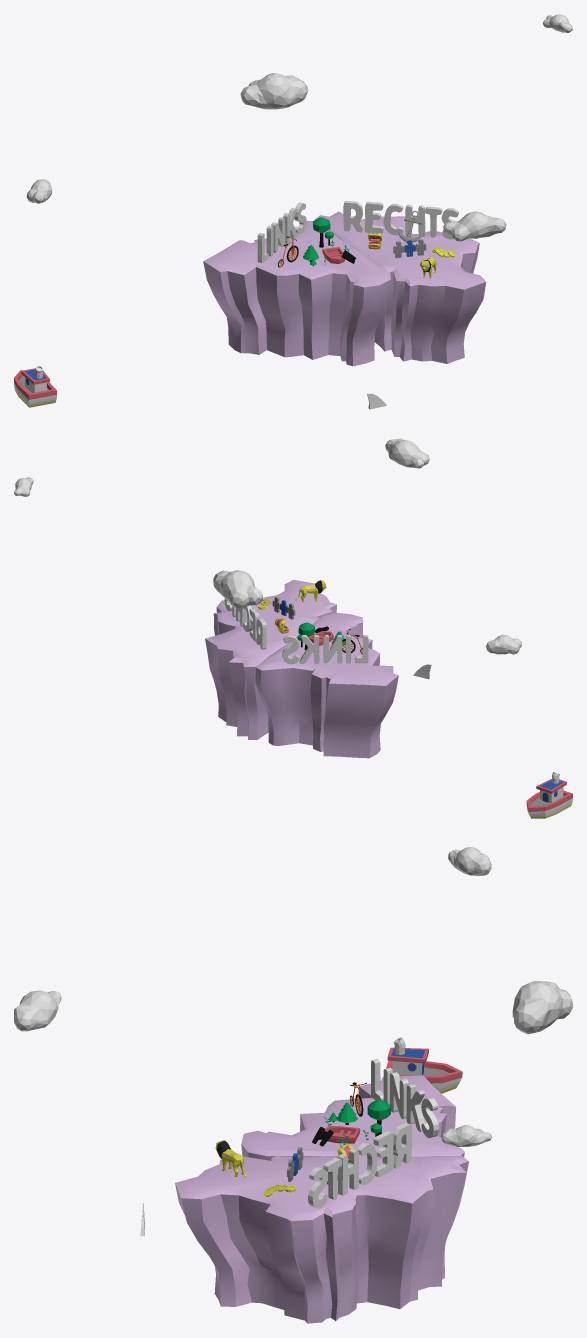
The model's file is 010-left_right.glb.
3 views of the same model, one above another, from view 1: azimuth 30°, elevation 25°; view 2: azimuth 150°, elevation 25°; view 3: azimuth 270°, elevation 25° (orthographic). The views are drawn at different scales.
Visible parts, largest first — view 1: GEO.Belgium.L, GEO.Belgium.R, GEO.Cloud, GEO.Ship, GEO.Cloud.001; view 2: GEO.Belgium.L, GEO.Belgium.R, GEO.Ship, GEO.Cloud, GEO.Cloud.001, GEO.Cloud.002; view 3: GEO.Belgium.R, GEO.Belgium.L, GEO.Cloud, GEO.Ship, GEO.Cloud.001, GEO.Cloud.002, GEO.Cloud.003.
Part boxes in pixels (x1,y1,x2,y2): GEO.Belgium.L: [203, 202, 390, 366]; GEO.Belgium.R: [314, 201, 486, 363]; GEO.Cloud: [240, 73, 308, 109]; GEO.Ship: [14, 365, 56, 407]; GEO.Cloud.001: [443, 211, 506, 241]; GEO.Belgium.L: [255, 612, 398, 758]; GEO.Belgium.R: [205, 579, 336, 739]; GEO.Ship: [526, 772, 572, 818]; GEO.Cloud: [213, 570, 262, 608]; GEO.Cloud.001: [385, 438, 429, 468]; GEO.Cloud.002: [486, 634, 521, 654]; GEO.Belgium.R: [175, 1123, 468, 1323]; GEO.Belgium.L: [241, 1059, 464, 1160]; GEO.Cloud: [512, 981, 572, 1034]; GEO.Ship: [386, 1037, 462, 1093]; GEO.Cloud.001: [14, 990, 61, 1031]; GEO.Cloud.002: [448, 847, 491, 875]; GEO.Cloud.003: [441, 1125, 491, 1146].
Size of what is drawn, in the model's own units: 4.33 by 1.72 by 2.81.
